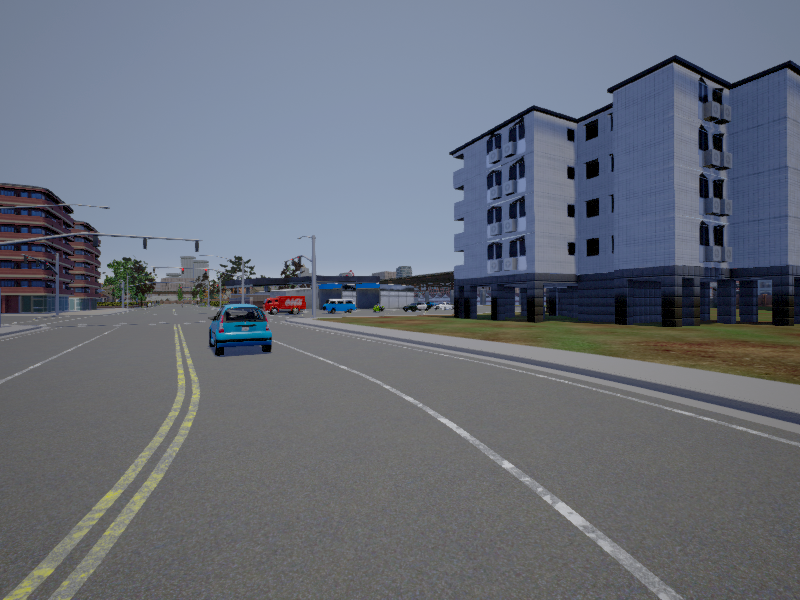Benign: (210, 304, 270, 358), (265, 297, 310, 319), (322, 299, 355, 316), (405, 303, 433, 311)
